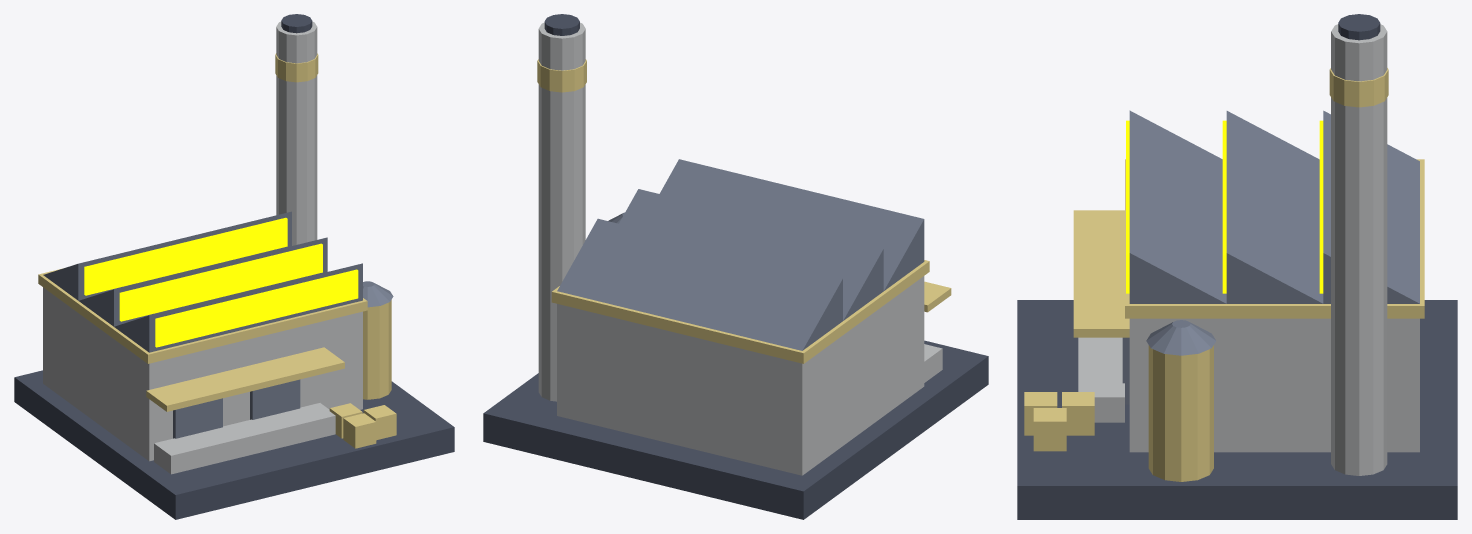
Rendered from factory_sawtooth.glb.
The picture shows the model from 3 angles, left to right: view 1: azimuth 30°, elevation 25°; view 2: azimuth 150°, elevation 25°; view 3: azimuth 270°, elevation 25°; orthographic projection. The views are drawn at different scales.
Visible parts, largest first — view 1: factory_sawtooth; view 2: factory_sawtooth; view 3: factory_sawtooth.
Boxes of the visible parts, x1,y1,x2,y2 form: factory_sawtooth: [14, 14, 454, 519]; factory_sawtooth: [483, 14, 988, 519]; factory_sawtooth: [1017, 14, 1457, 519].
Size of the model in its own units: 0.94 by 1.12 by 0.94.
